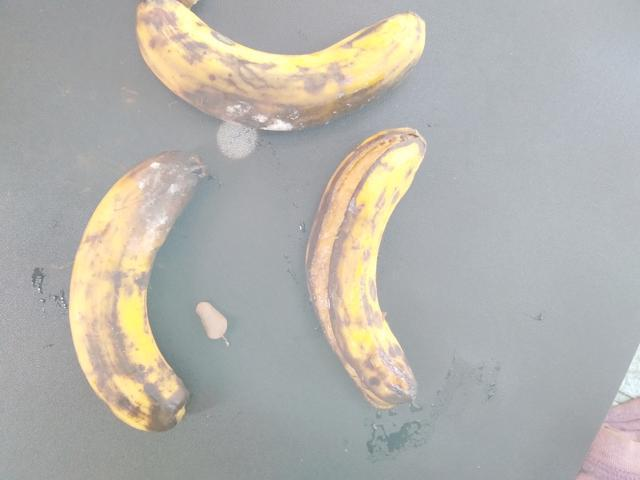rotten: (56, 141, 228, 445), (301, 119, 447, 424), (125, 4, 441, 138)
